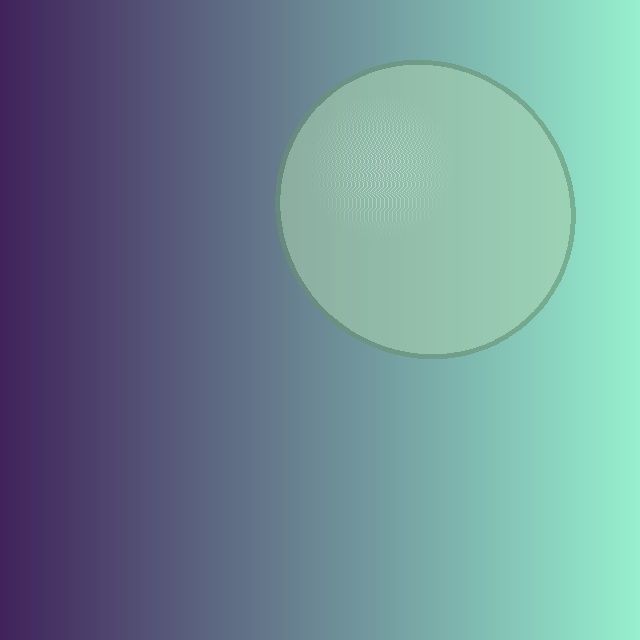lens: (277, 62, 573, 356)
